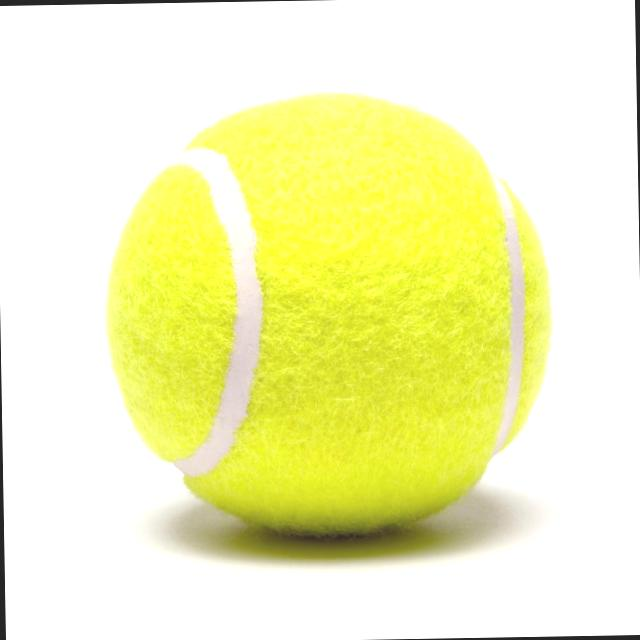Tennis Ball: (94, 86, 560, 544)
